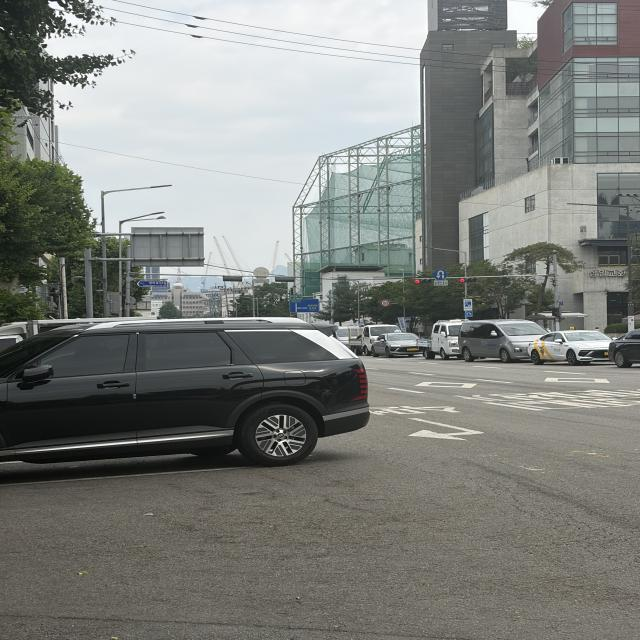car: (0, 281, 426, 506), (456, 318, 560, 366), (525, 321, 619, 370), (412, 313, 485, 366), (367, 330, 434, 362)
